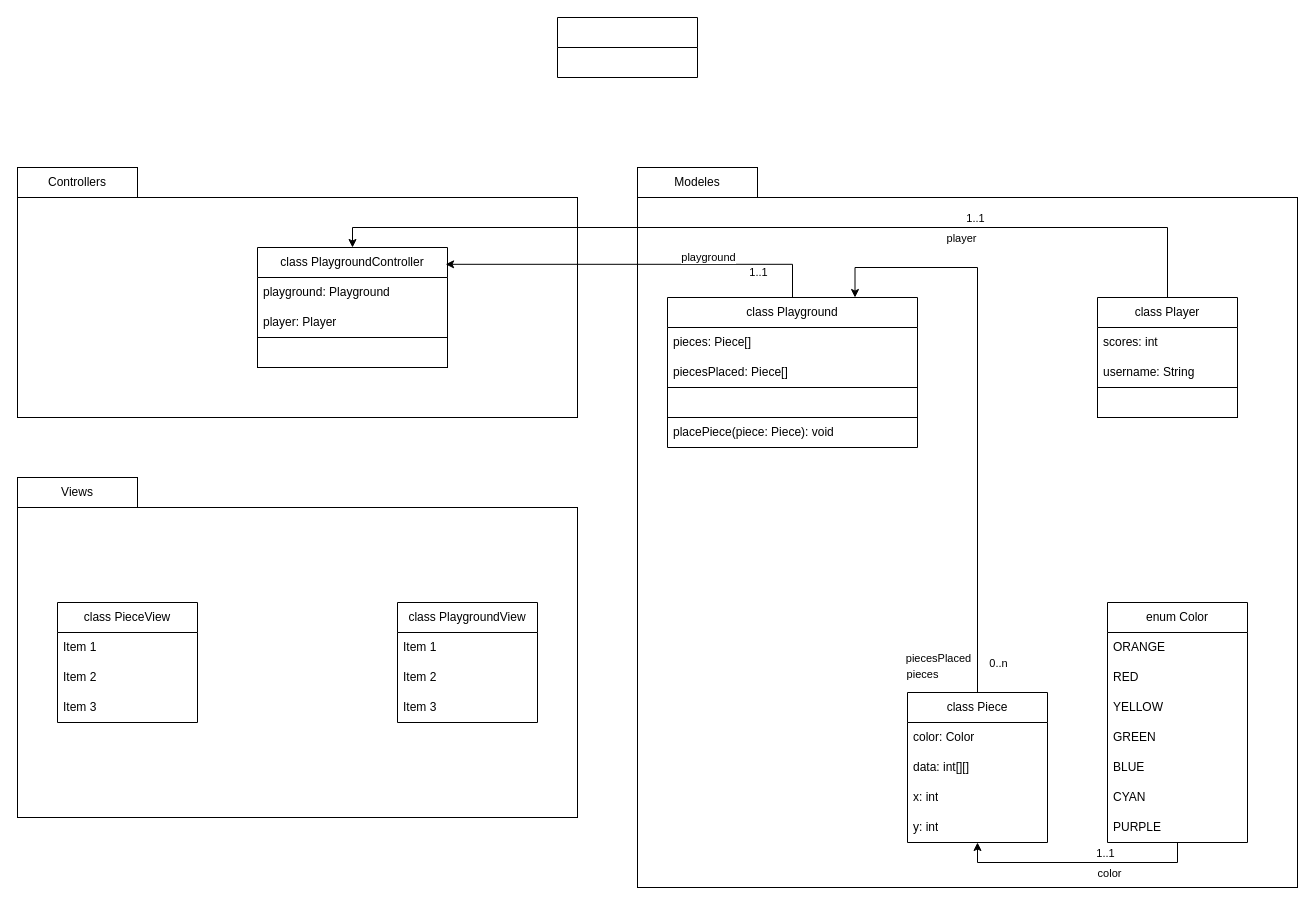
The diagram is 1315 pixels wide and 905 high, and some of its shapes have lost their labels. The shapes that lost their labels are listed below. From the top down, each one's centre as x and y in pixels, then its label:
the point at 627,47: Tetris
the point at 352,352: inputs(): void
the point at 792,402: removeLines(startY: int, endY: int): void
the point at 1167,402: addScore(pts: int): void
